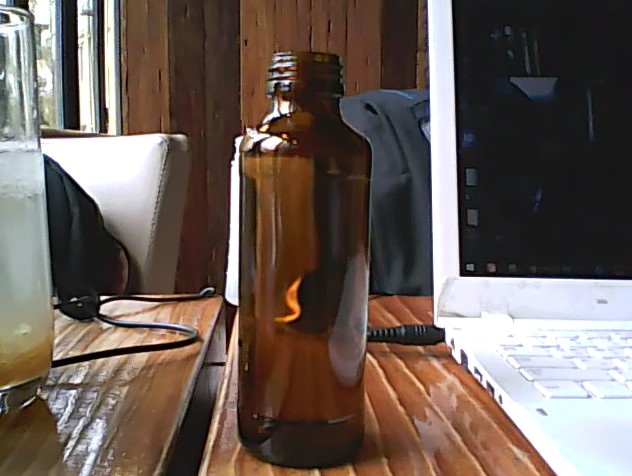Glass: (238, 49, 374, 470)
